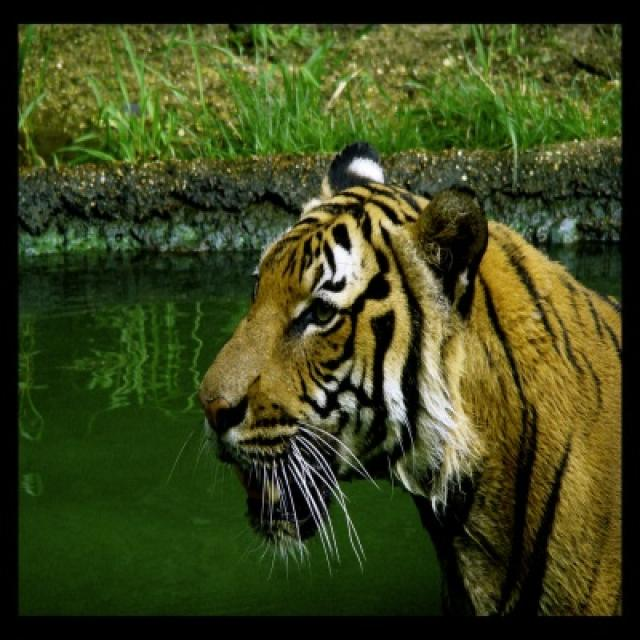Tiger: (198, 144, 618, 614)
